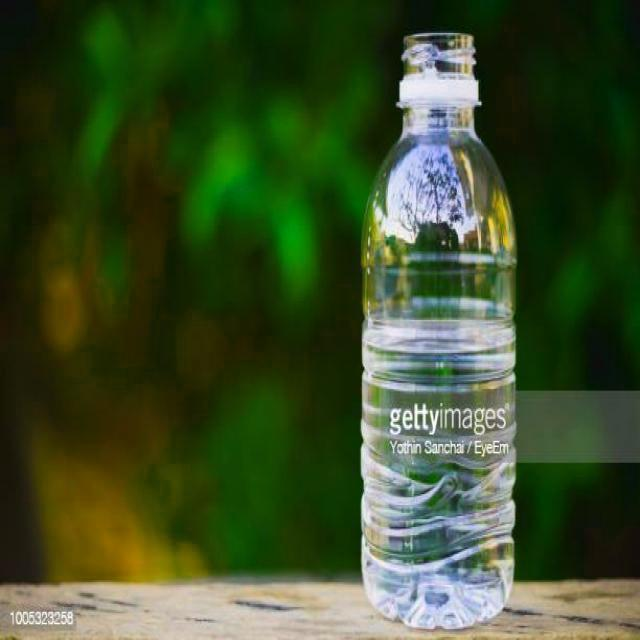bottle: (360, 32, 519, 630)
